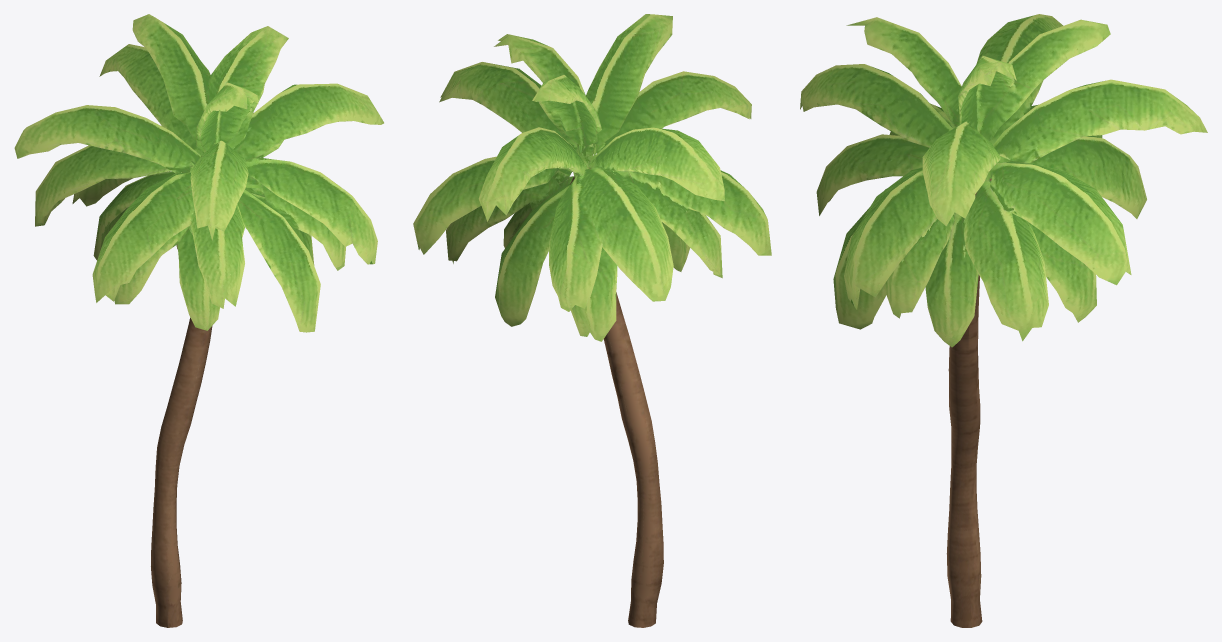
The model's file is palm_a.glb.
3 renders of one model, left to right at view 1: azimuth 30°, elevation 25°; view 2: azimuth 150°, elevation 25°; view 3: azimuth 270°, elevation 25°, orthographic. The views are drawn at different scales.
Visible parts, largest first — view 1: body; view 2: body; view 3: body.
Part boxes in pixels (<box>): body: <box>14,14,383,627</box>; body: <box>413,14,771,627</box>; body: <box>800,14,1207,627</box>.
Bounding box in the file's own units: 5.17 × 8.55 × 5.08.
Materials: 2 (2 with a texture image).
